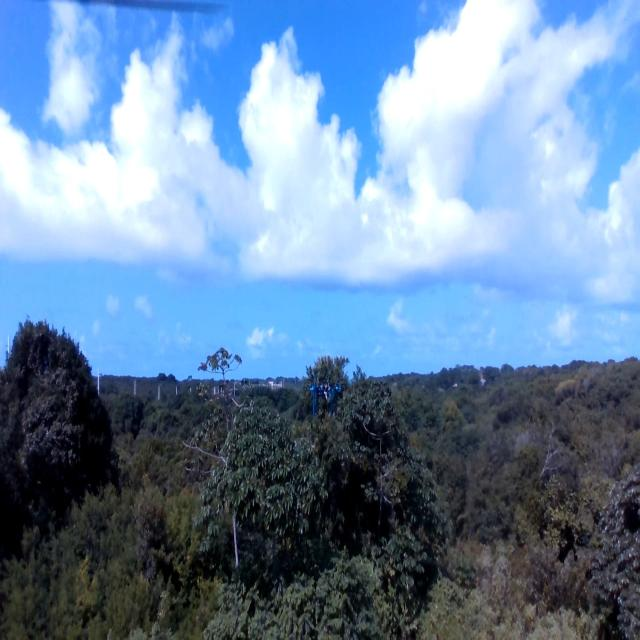-uav-: (300, 371, 350, 423)
